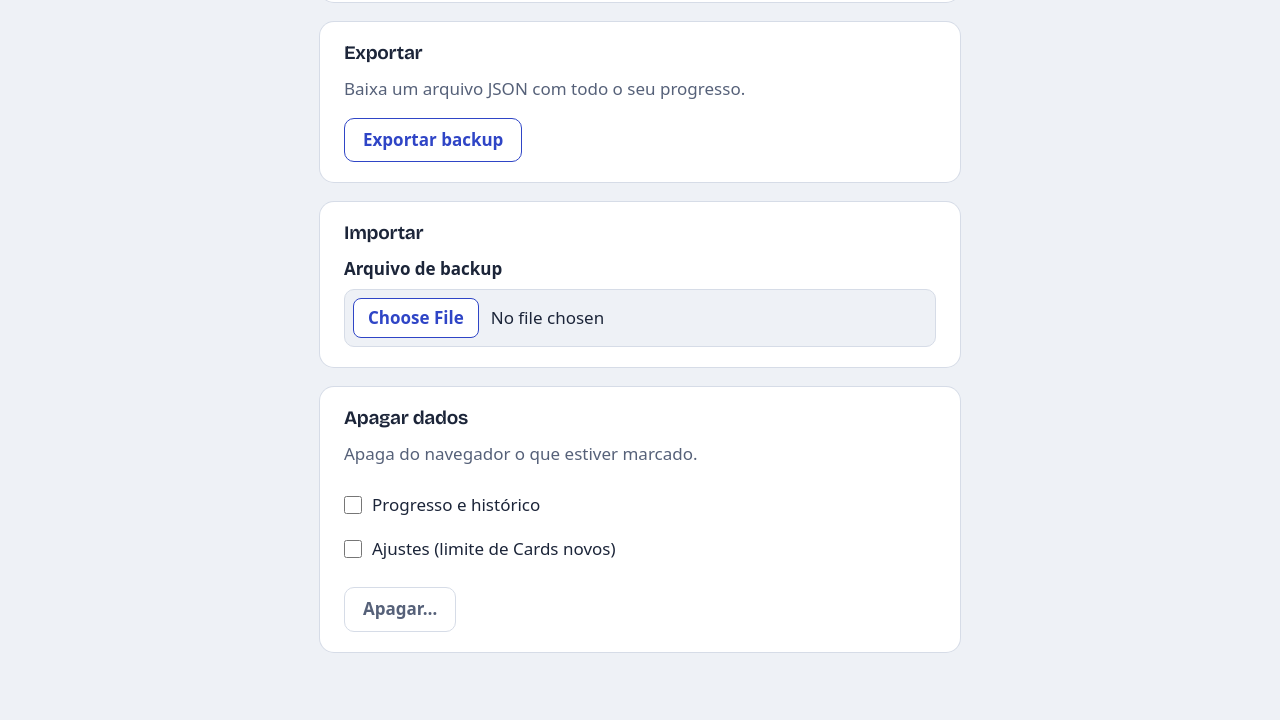
Test: Configuracoes › apagar dados › apagar os ajustes volta o limite a 20
(page scrolled)
Click the checkbox labelled "Ajustes (limite de Cards novos)" at point(353, 549), box [344, 540, 362, 558]
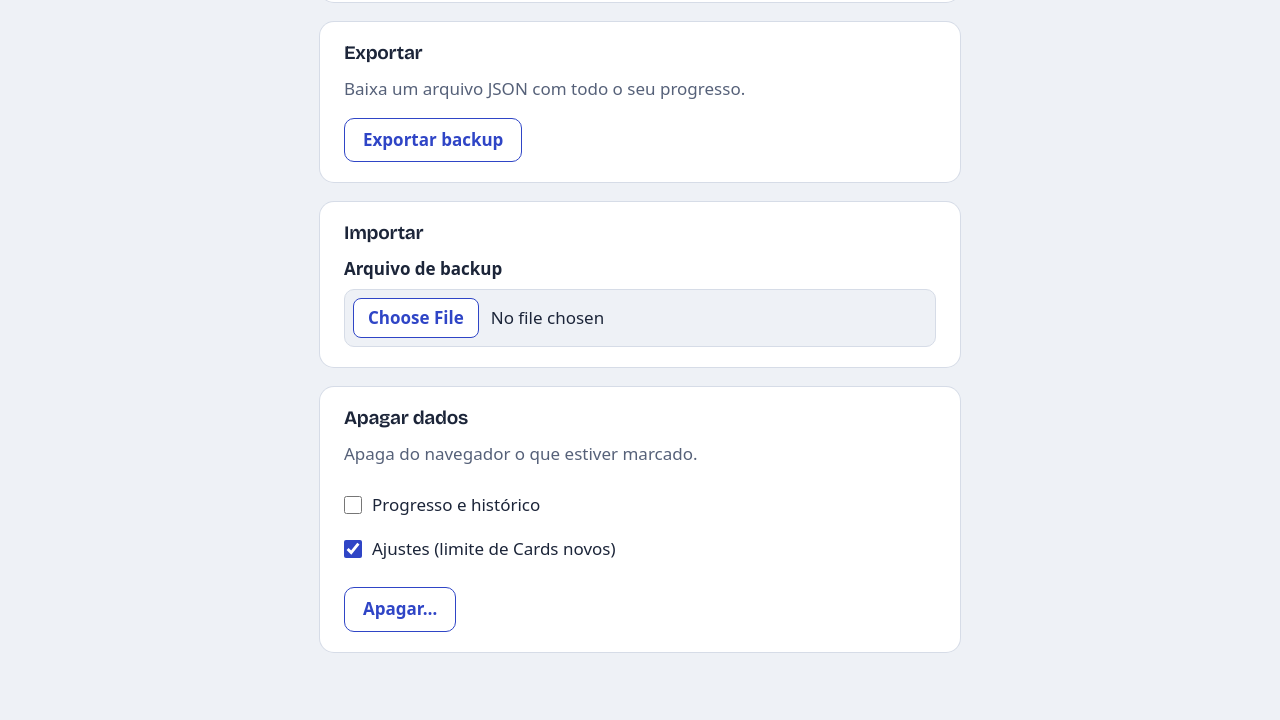
Click the button "Apagar…" at point(400, 609), box [344, 587, 456, 632]
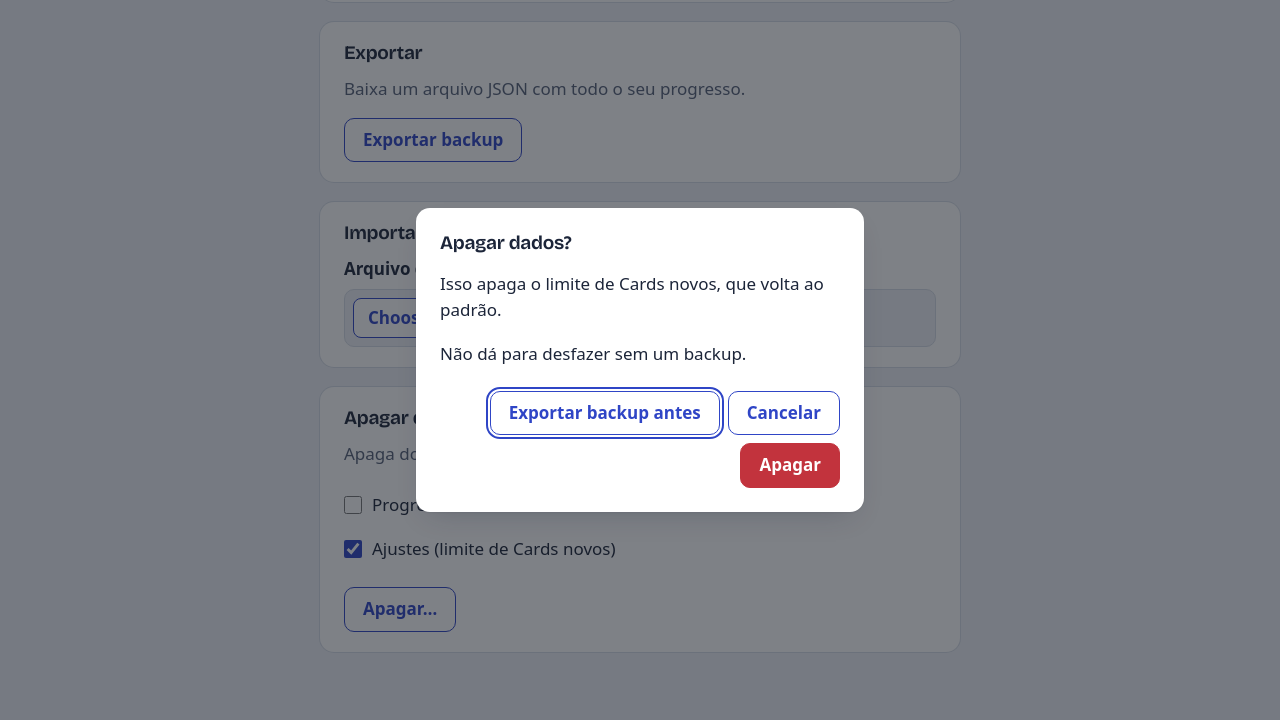
Check: the dialog is shown, box [416, 208, 864, 512]
Click the button "Apagar" at point(790, 466), box [740, 443, 840, 488]
(page scrolled)
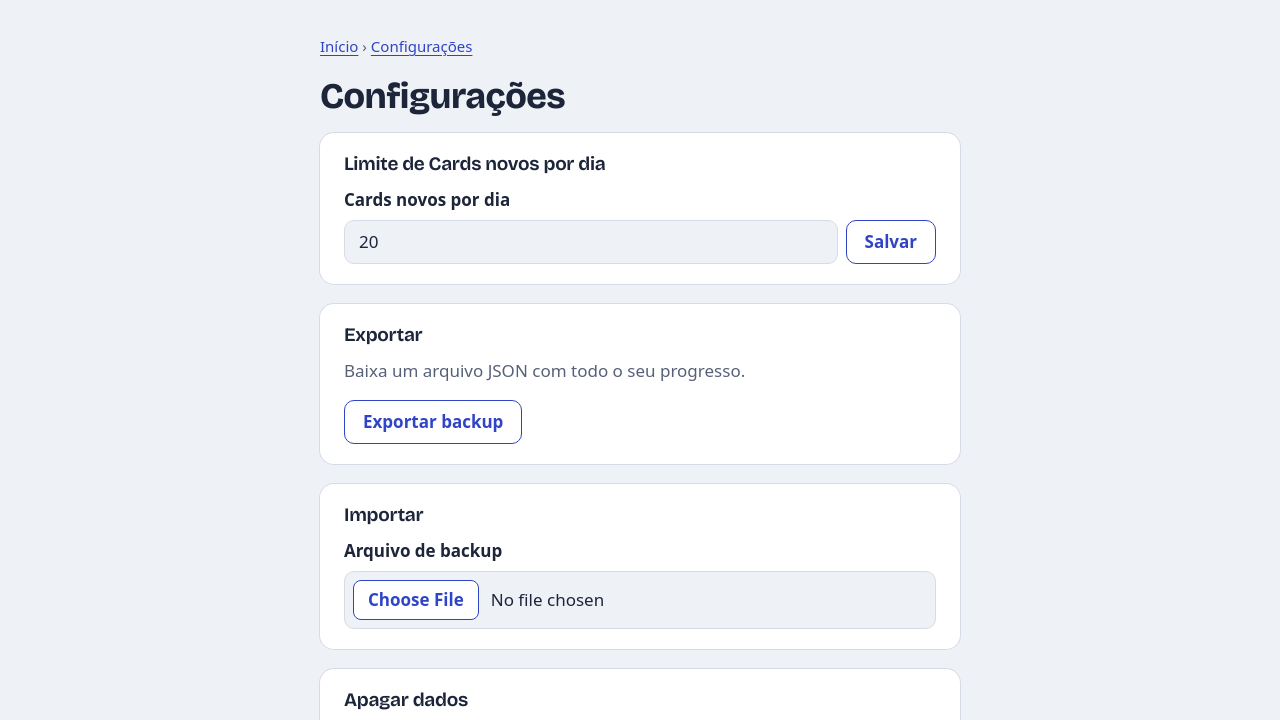
Check: the number field labelled "Cards novos por dia" holds "20", box [344, 220, 838, 264]
